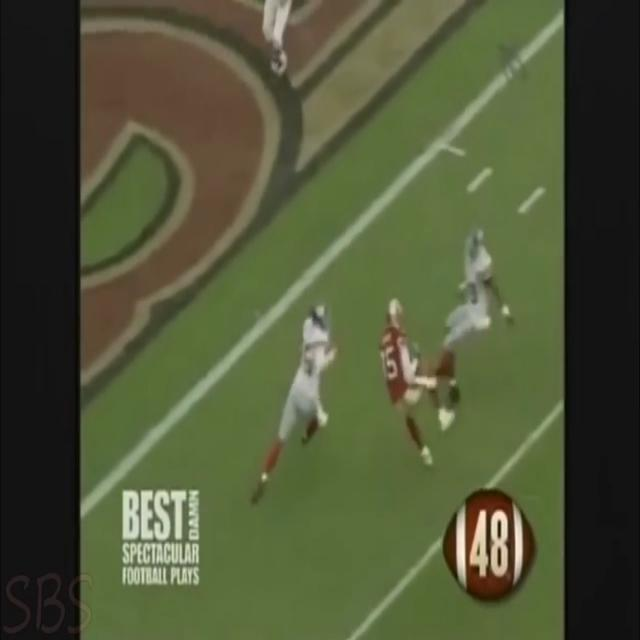players: (246, 284, 341, 516), (438, 222, 508, 406), (369, 292, 431, 476), (247, 0, 308, 95)
